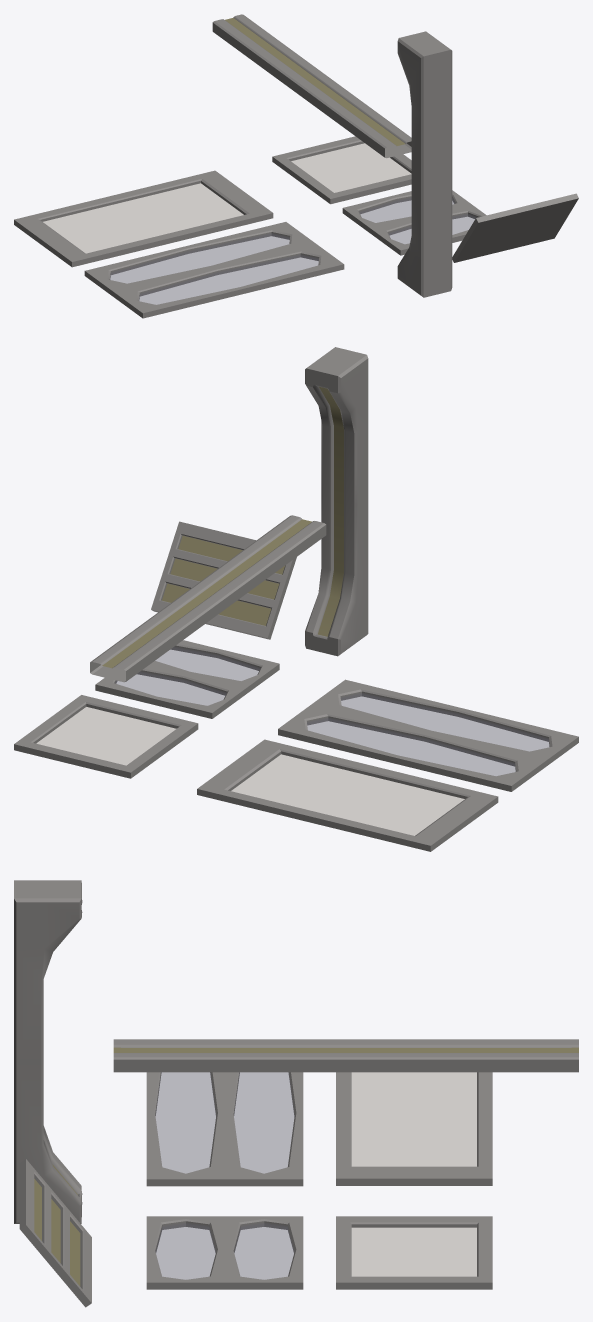
The model's file is Panels.fbx.
3 views of the same model, one above another, from view 1: azimuth 30°, elevation 25°; view 2: azimuth 150°, elevation 25°; view 3: azimuth 270°, elevation 25° (orthographic). The views are drawn at different scales.
Parts seen in each view (by area): view 1: WindowBig, FloorBig, Piller, Floor_Piller, Floor, Light, Window; view 2: FloorBig, WindowBig, Piller, Floor_Piller, Floor, Window, Light; view 3: WindowBig, FloorBig, Floor_Piller, Piller, Window, Floor, Light.
Boxes of the visible parts, box(x1,y1,x2,y2) form: WindowBig: box(84, 222, 344, 318); FloorBig: box(14, 170, 273, 267); Piller: box(397, 31, 452, 297); Floor_Piller: box(212, 14, 411, 158); Floor: box(272, 136, 411, 204); Light: box(452, 193, 578, 262); Window: box(342, 190, 486, 255); FloorBig: box(197, 739, 498, 851); WindowBig: box(278, 679, 578, 791); Piller: box(305, 347, 368, 656); Floor_Piller: box(90, 515, 326, 682); Floor: box(14, 695, 198, 778); Window: box(95, 640, 279, 718); Light: box(151, 521, 296, 639); WindowBig: box(146, 1072, 303, 1186); FloorBig: box(336, 1072, 492, 1185); Floor_Piller: box(113, 1039, 578, 1072); Piller: box(14, 880, 82, 1223); Window: box(146, 1216, 303, 1289); Floor: box(336, 1216, 492, 1289); Light: box(19, 1159, 91, 1307).
Bounding box in the file's own units: 3.87 × 2.29 × 3.6.
